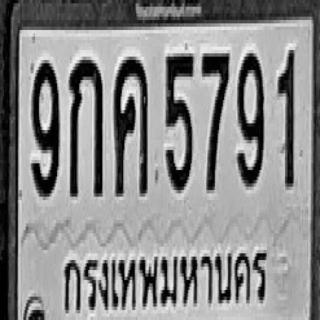A01: (69, 55, 102, 195)
A04: (114, 53, 148, 193)
N01: (277, 47, 294, 187)
N05: (165, 50, 194, 190)
N07: (201, 50, 229, 190)
N09: (31, 60, 60, 197), (237, 48, 264, 185)
P04: (58, 231, 270, 320)
